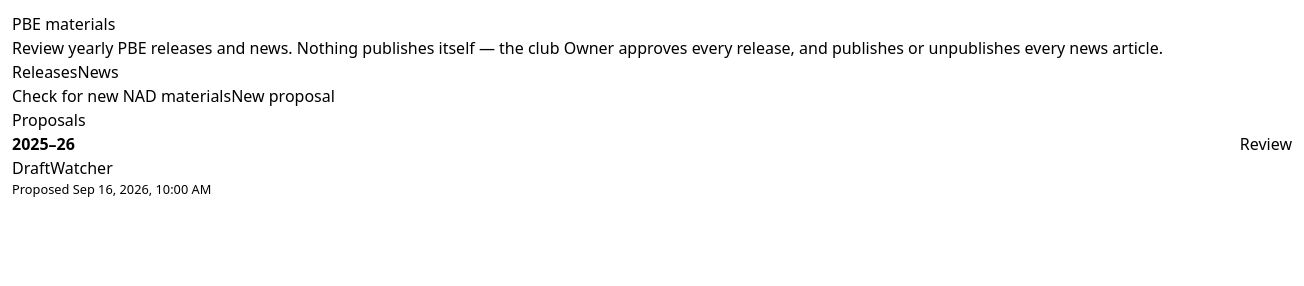
Test case: checks the NAD watcher and surfaces drafted proposals
Check: the button "Review" is shown, box [1240,132,1292,156]
Click the button "Check for new NAD materials" at {"x": 122, "y": 96}, box [12,84,231,108]
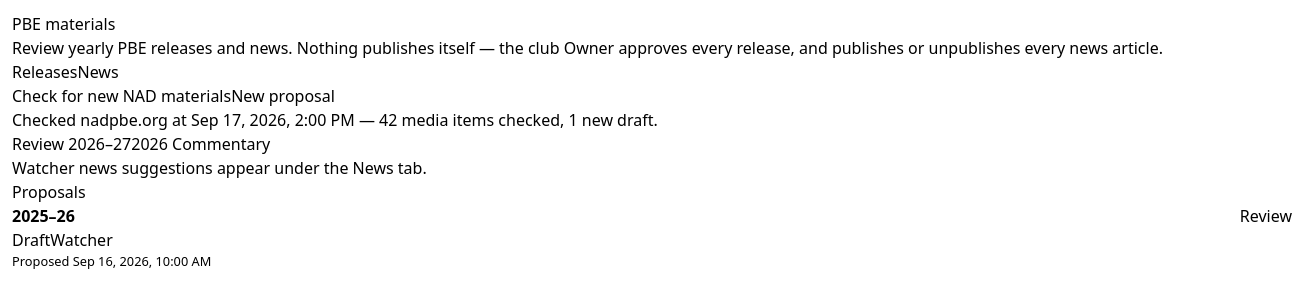
Check: the text "42 media items checked" is shown, box [12,109,658,131]
Check: the text "2026 Commentary" is shown, box [131,132,270,156]
